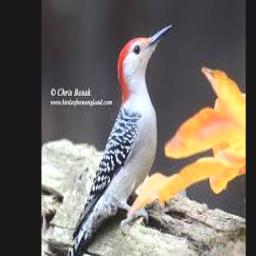Woodpecker: (60, 23, 172, 256)
